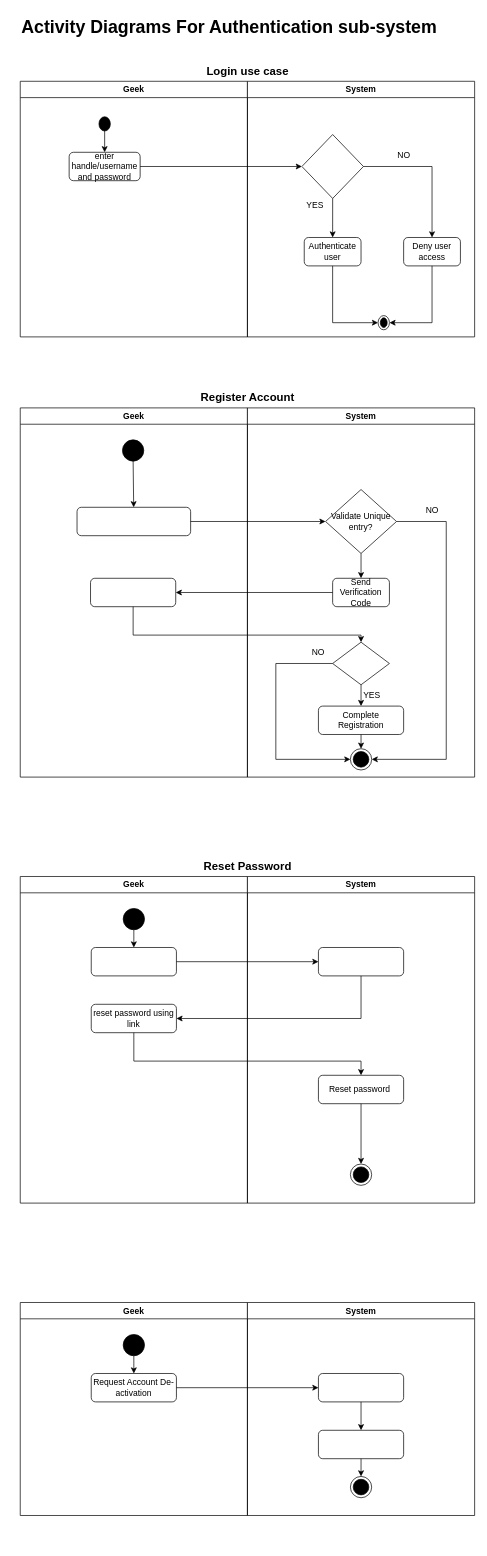
The diagram is 487 pixels wide and 1556 high, and some of its shapes have lost their labels. The centre of each missing label's shape, as x and y in pixels:
Confirm verification code: point 133,592
De-activate Account: point 361,1387
Enter all registry information: point 133,521
Log the user out: point 361,1444
Request Password Reset: point 133,961
Send password reset link via email: point 361,961
Validate code: point 360,663
Validate credentials?: point 332,166
